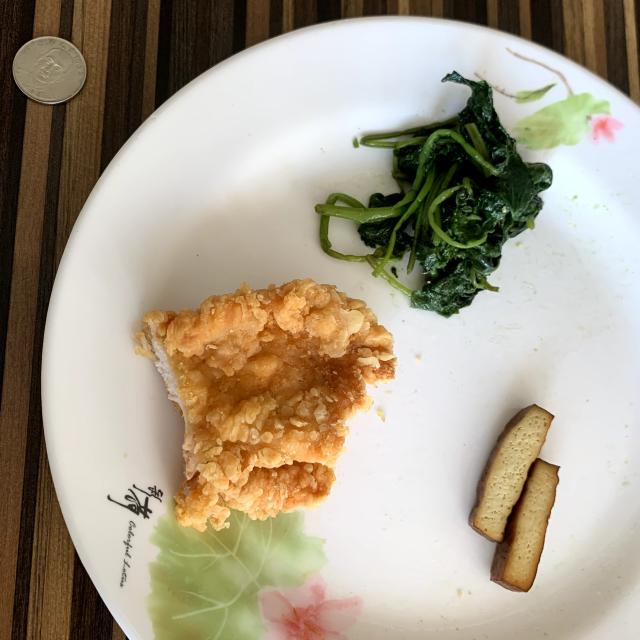coin: (12, 36, 86, 104)
firm tofu: (469, 404, 559, 592)
fried chicken cutlet: (135, 279, 396, 531)
sweet potato leaves: (316, 71, 552, 316)
